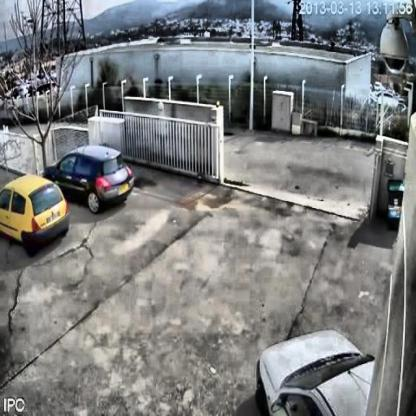occupied: (0, 169, 72, 250), (64, 140, 134, 203)
